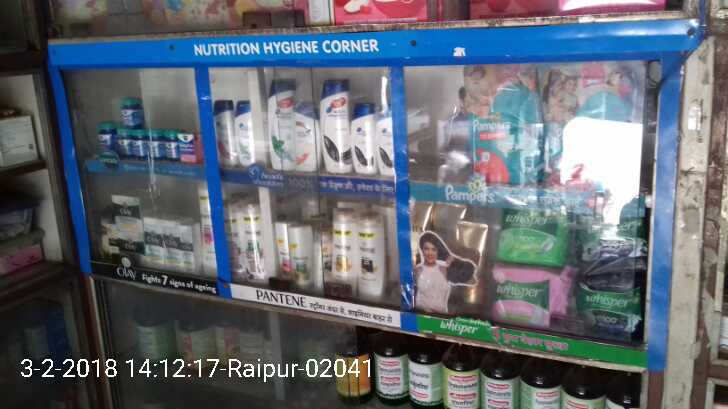beauty: (319, 78, 350, 175), (353, 211, 384, 294), (265, 80, 293, 171), (286, 102, 317, 178), (348, 101, 377, 175), (332, 207, 356, 291), (208, 101, 233, 170), (232, 101, 256, 166), (378, 114, 394, 179)
pharmacy: (86, 95, 204, 158), (538, 56, 645, 125), (469, 112, 545, 187), (490, 262, 579, 319), (462, 62, 544, 123), (497, 204, 569, 263)
